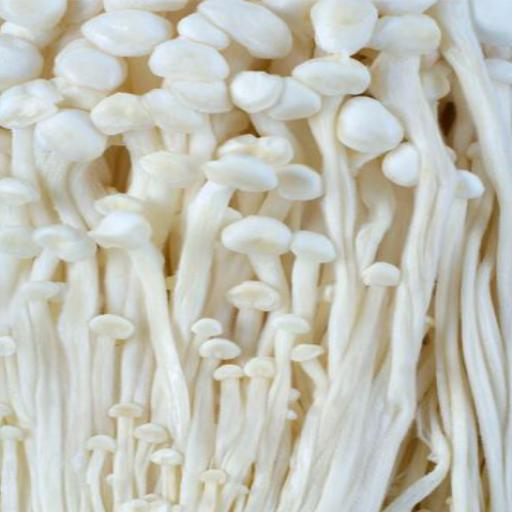Enoki Mushroom: (0, 0, 471, 511)
